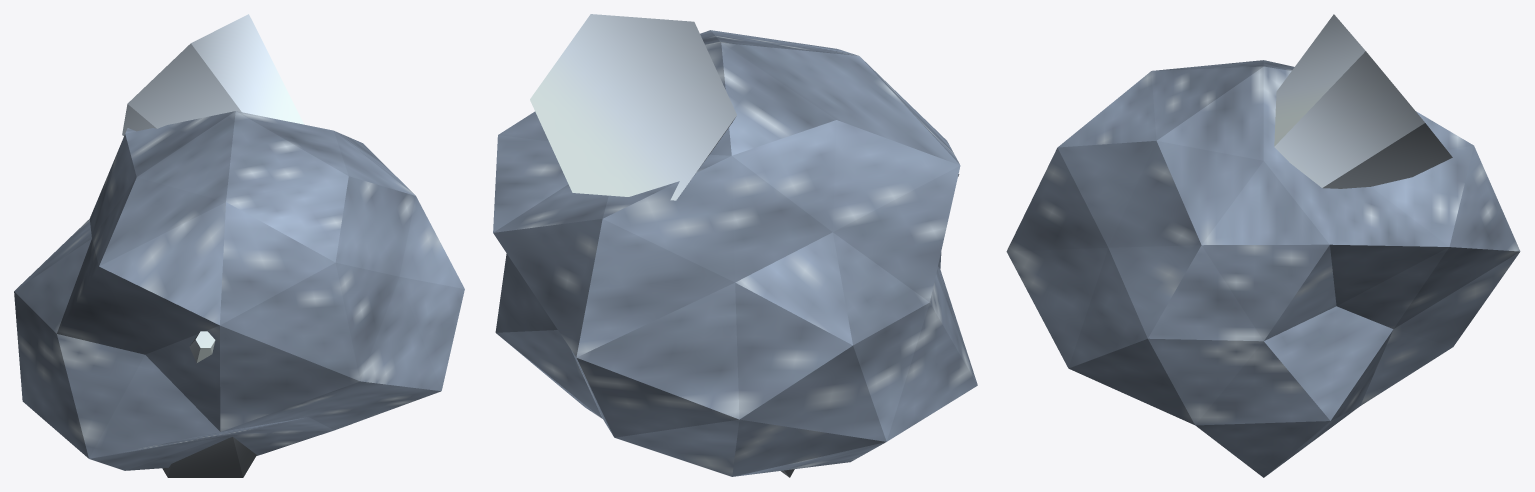
File: chunk_titanium.glb
3 views of the same model, side by side, from view 1: azimuth 30°, elevation 25°; view 2: azimuth 150°, elevation 25°; view 3: azimuth 270°, elevation 25° (orthographic). The views are drawn at different scales.
Parts seen in each view (by area): view 1: chunk_titanium; view 2: chunk_titanium; view 3: chunk_titanium.
Part boxes in pixels (<box>): chunk_titanium: <box>14,14,464,477</box>; chunk_titanium: <box>493,14,977,477</box>; chunk_titanium: <box>1006,14,1520,477</box>.
Bounding box in the file's own units: 0.8315 × 0.88 × 0.9918.
Materials: 1 (1 with a texture image).
